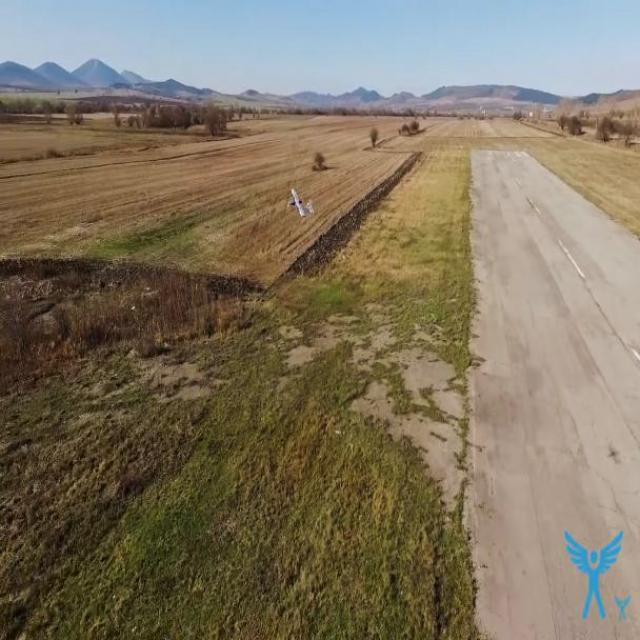iha: (280, 173, 315, 215)
